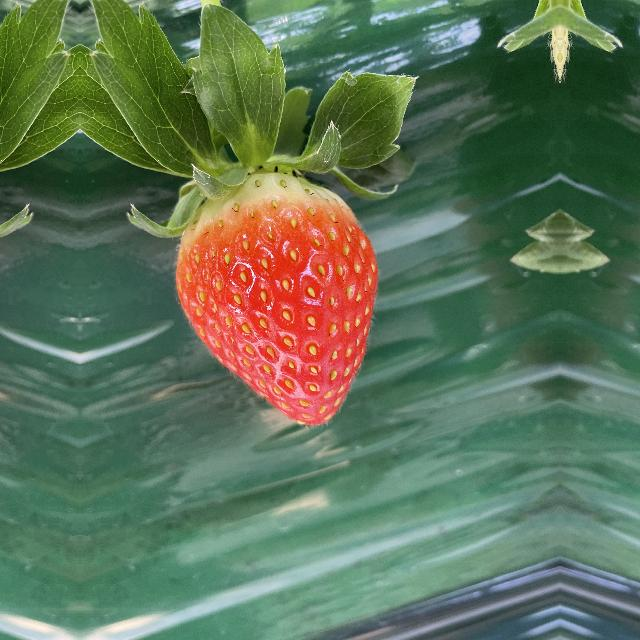Health_100: (161, 154, 379, 426)
